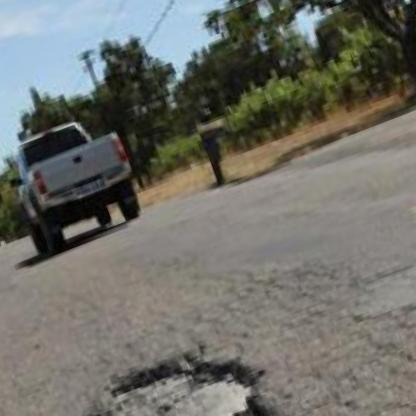pothole: (56, 323, 286, 416)
